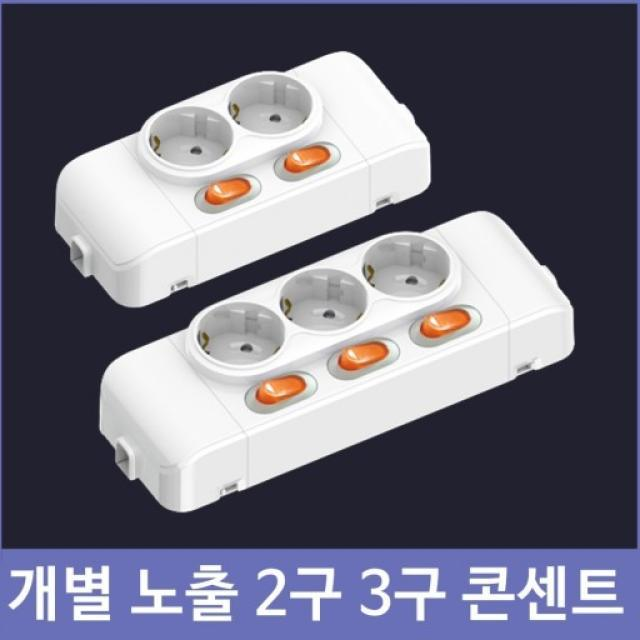typeb: (154, 210, 554, 470), (55, 50, 362, 224)
